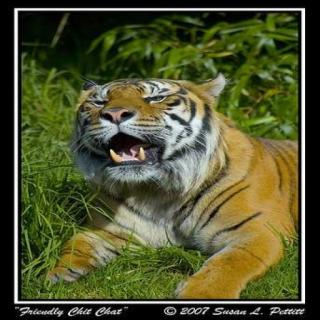Tiger: (33, 63, 303, 294)
